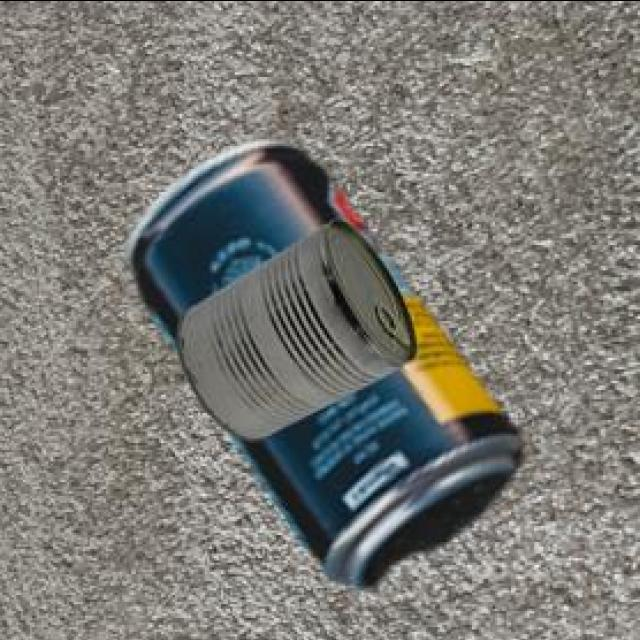logam: (125, 135, 519, 584), (174, 215, 413, 436)
